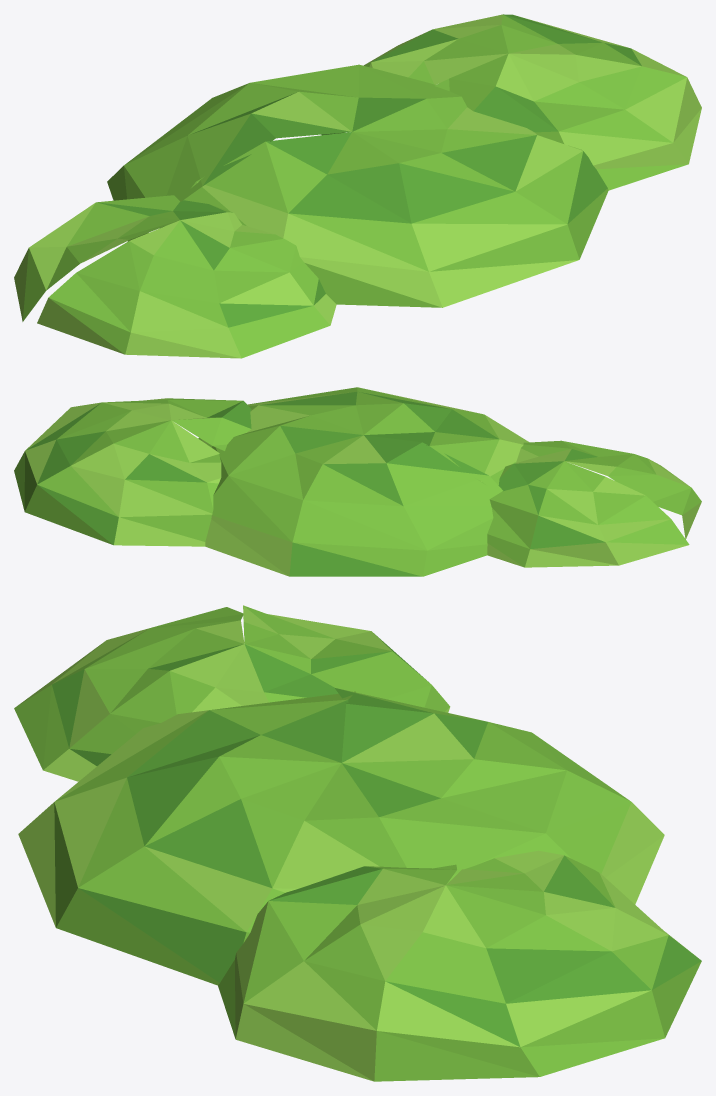
The model's file is colinas_v1.glb.
3 views of the same model, one above another, from view 1: azimuth 30°, elevation 25°; view 2: azimuth 150°, elevation 25°; view 3: azimuth 270°, elevation 25° (orthographic). The views are drawn at different scales.
Visible parts, largest first — view 1: colina_1_pasto, colina_2_pasto, colina_1_pasto_claro, colina_1_pasto_oscuro, colina_3_pasto_claro, colina_2_pasto_claro, colina_3_pasto, colina_3_pasto_oscuro, colina_2_pasto_oscuro; view 2: colina_1_pasto, colina_3_pasto, colina_2_pasto, colina_3_pasto_claro, colina_1_pasto_oscuro, colina_2_pasto_claro, colina_1_pasto_claro, colina_3_pasto_oscuro, colina_2_pasto_oscuro; view 3: colina_1_pasto, colina_3_pasto, colina_3_pasto_claro, colina_1_pasto_oscuro, colina_2_pasto, colina_1_pasto_claro, colina_3_pasto_oscuro, colina_2_pasto_claro, colina_2_pasto_oscuro.
Part boxes in pixels (x1,y1,x2,y2): colina_1_pasto: [107, 64, 608, 307]; colina_2_pasto: [22, 195, 330, 358]; colina_1_pasto_claro: [197, 92, 582, 307]; colina_1_pasto_oscuro: [160, 92, 607, 228]; colina_3_pasto_claro: [364, 14, 701, 169]; colina_2_pasto_claro: [14, 202, 336, 358]; colina_3_pasto: [336, 15, 687, 190]; colina_3_pasto_oscuro: [321, 14, 641, 135]; colina_2_pasto_oscuro: [97, 200, 325, 327]; colina_1_pasto: [198, 387, 516, 576]; colina_3_pasto: [14, 398, 250, 544]; colina_2_pasto: [487, 440, 701, 567]; colina_3_pasto_claro: [25, 398, 221, 546]; colina_1_pasto_oscuro: [260, 391, 498, 576]; colina_2_pasto_claro: [487, 448, 701, 567]; colina_1_pasto_claro: [201, 388, 528, 576]; colina_3_pasto_oscuro: [25, 401, 251, 544]; colina_2_pasto_oscuro: [498, 449, 604, 548]; colina_1_pasto: [54, 688, 631, 985]; colina_3_pasto: [218, 856, 701, 1081]; colina_3_pasto_claro: [235, 850, 695, 1081]; colina_1_pasto_oscuro: [79, 688, 487, 982]; colina_2_pasto: [14, 605, 449, 769]; colina_1_pasto_claro: [18, 710, 664, 931]; colina_3_pasto_oscuro: [269, 855, 701, 1046]; colina_2_pasto_claro: [15, 605, 449, 781]; colina_2_pasto_oscuro: [52, 633, 428, 765].
Bounding box in the file's own units: 29.91 × 3.3 × 19.23.
